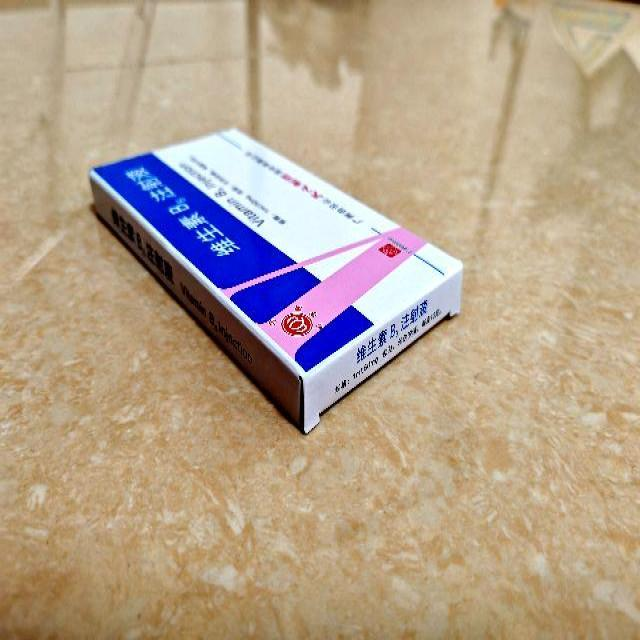box: (89, 128, 464, 434)
